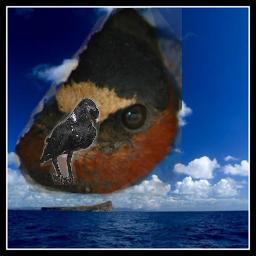Crow: (40, 98, 100, 185)
Swallow: (14, 8, 182, 199)
